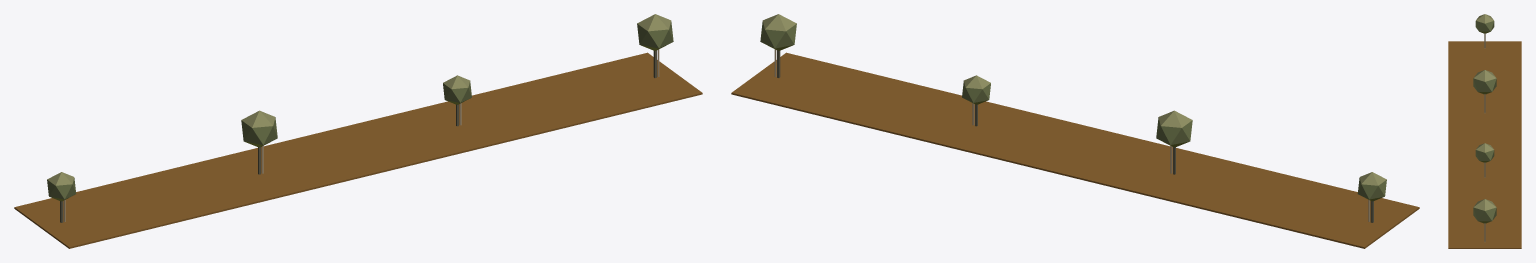
File: SM_Naranjos_v2_HileraJoven_LOD0.fbx
3 views of the same model, side by side, from view 1: azimuth 30°, elevation 25°; view 2: azimuth 150°, elevation 25°; view 3: azimuth 270°, elevation 25° (orthographic). The views are drawn at different scales.
Visible parts, largest first — view 1: SM_viveres_nules_v2_LOD0; view 2: SM_viveres_nules_v2_LOD0; view 3: SM_viveres_nules_v2_LOD0.
Boxes of the visible parts, box(x1,y1,x2,y2) form: SM_viveres_nules_v2_LOD0: box(14, 14, 702, 248); SM_viveres_nules_v2_LOD0: box(731, 14, 1419, 248); SM_viveres_nules_v2_LOD0: box(1448, 14, 1521, 248).
Size of the model in its own units: 16 by 1.58 by 2.4.
